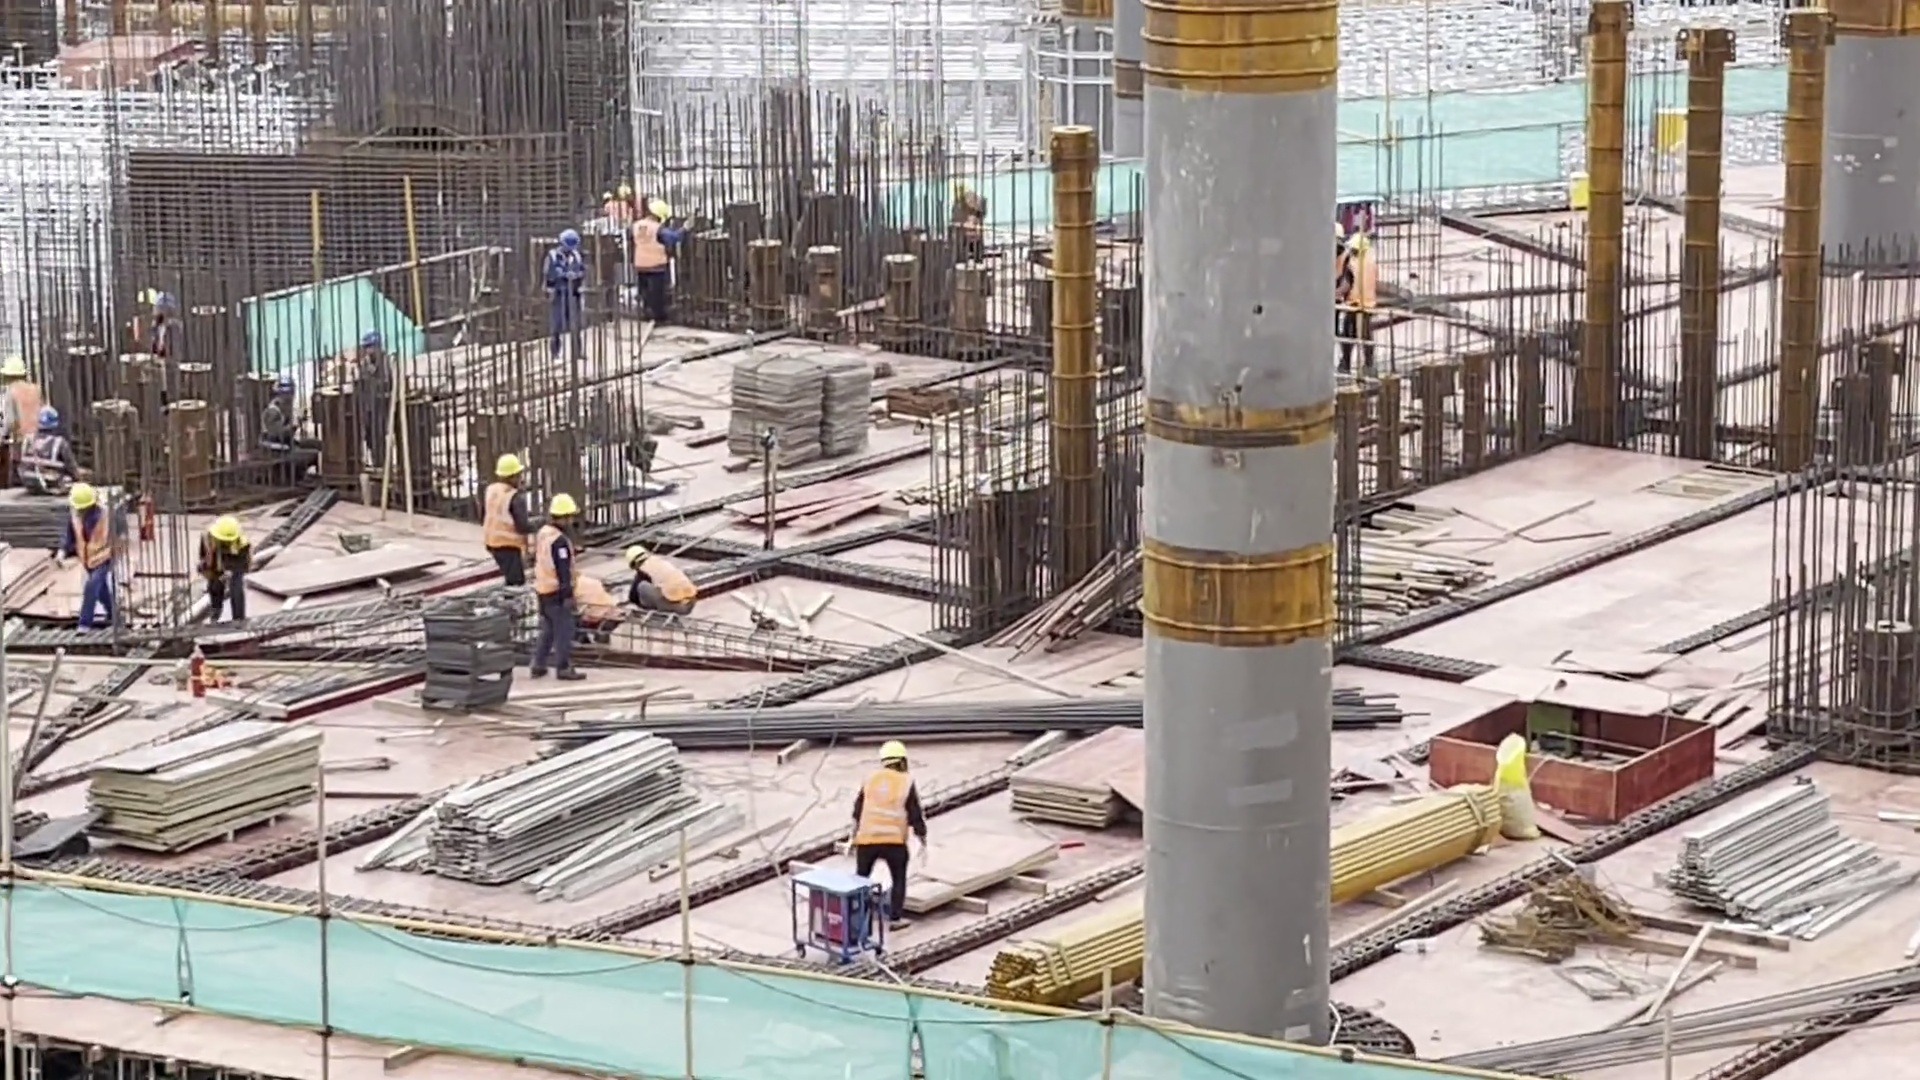board: (80, 719, 324, 854), (1009, 723, 1144, 834)
helmet: (205, 513, 241, 542), (64, 482, 101, 509), (493, 450, 525, 479), (876, 738, 908, 764), (547, 492, 579, 515), (623, 544, 645, 564)
person: (848, 739, 928, 926), (60, 479, 122, 628), (537, 490, 582, 683), (540, 223, 586, 376), (615, 539, 698, 616), (484, 452, 526, 588), (200, 512, 253, 616), (638, 201, 680, 323), (18, 406, 75, 492), (1348, 226, 1377, 381), (1, 343, 42, 443), (580, 570, 617, 637), (595, 185, 629, 226)
vest: (856, 771, 917, 849), (483, 481, 529, 550), (537, 525, 577, 597), (640, 552, 697, 602), (74, 508, 117, 573), (634, 219, 670, 276), (542, 248, 583, 294), (581, 577, 616, 624)
wood: (1364, 528, 1491, 621)
